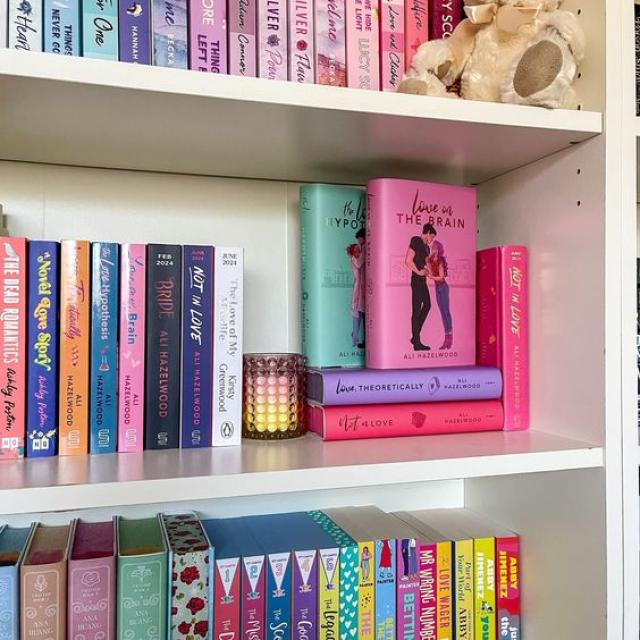book: (91, 242, 144, 452), (25, 241, 59, 457), (145, 246, 180, 448), (325, 401, 501, 441), (59, 241, 89, 455), (323, 370, 500, 406), (181, 246, 212, 446), (212, 245, 242, 445), (0, 237, 26, 458), (500, 247, 531, 430), (117, 556, 166, 640), (69, 562, 114, 640), (21, 566, 66, 640), (292, 549, 318, 640), (396, 538, 418, 640), (474, 537, 494, 640), (498, 537, 518, 640), (376, 540, 396, 640), (268, 553, 290, 640), (318, 549, 339, 640), (217, 558, 240, 640), (243, 555, 264, 640), (455, 540, 471, 640), (358, 542, 374, 640), (419, 546, 435, 640), (437, 542, 451, 640), (0, 563, 18, 639)
candle: (244, 354, 304, 438)
